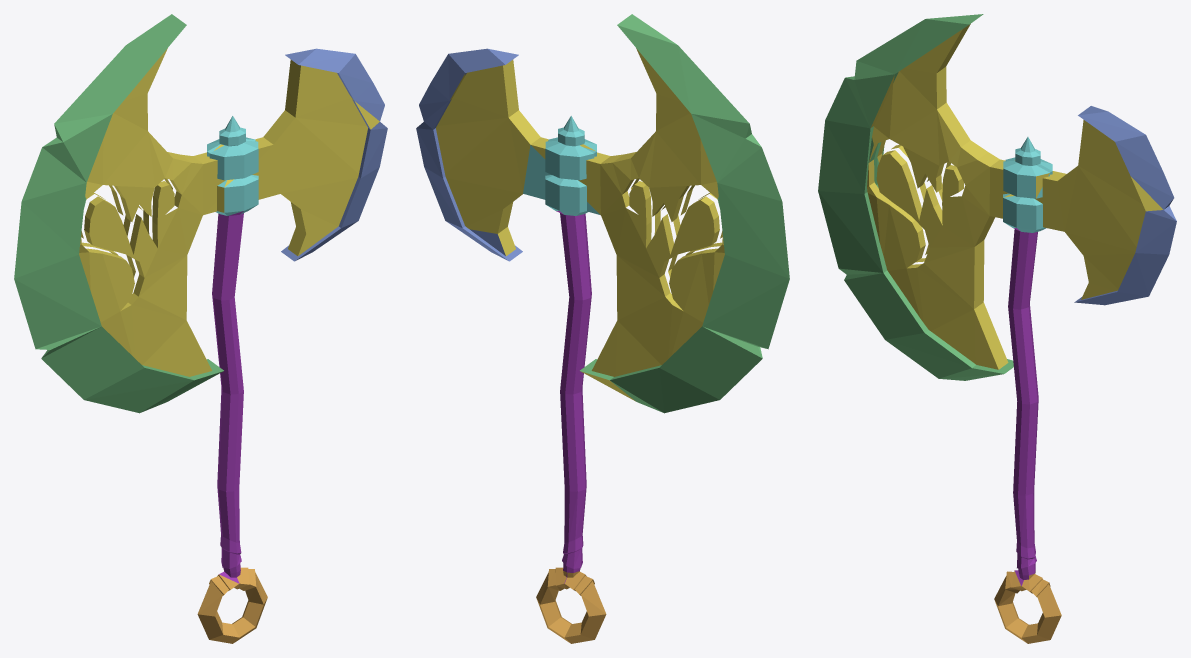
3 renders of one model, left to right at view 1: azimuth 30°, elevation 25°; view 2: azimuth 150°, elevation 25°; view 3: azimuth 330°, elevation 25°, orthographic. The views are drawn at different scales.
Visible parts, largest first — view 1: world; view 2: world; view 3: world.
Part boxes in pixels (x1,y1,x2,y2): world: (14, 14, 387, 643); world: (416, 14, 789, 643); world: (818, 14, 1176, 643).
Size of the model in its own units: 12.3 by 20.05 by 1.33.
